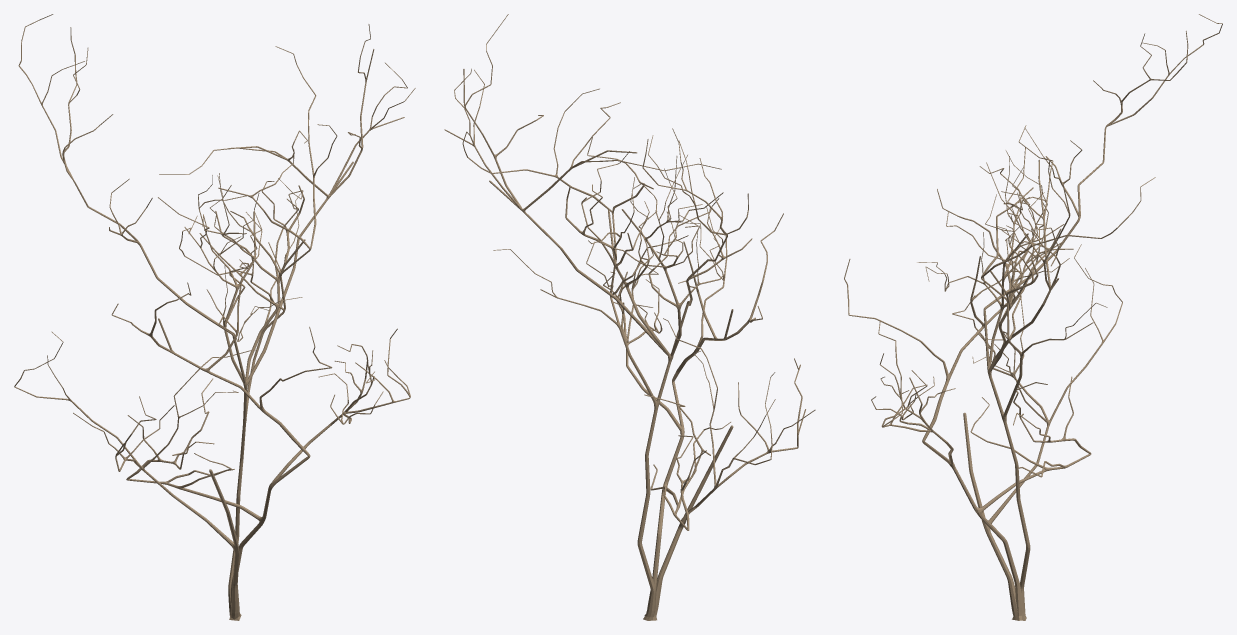
3 views of the same model, side by side, from view 1: azimuth 30°, elevation 25°; view 2: azimuth 150°, elevation 25°; view 3: azimuth 270°, elevation 25° (orthographic). The views are drawn at different scales.
Bounding box in the file's own units: 2.28 × 3.45 × 2.11.
